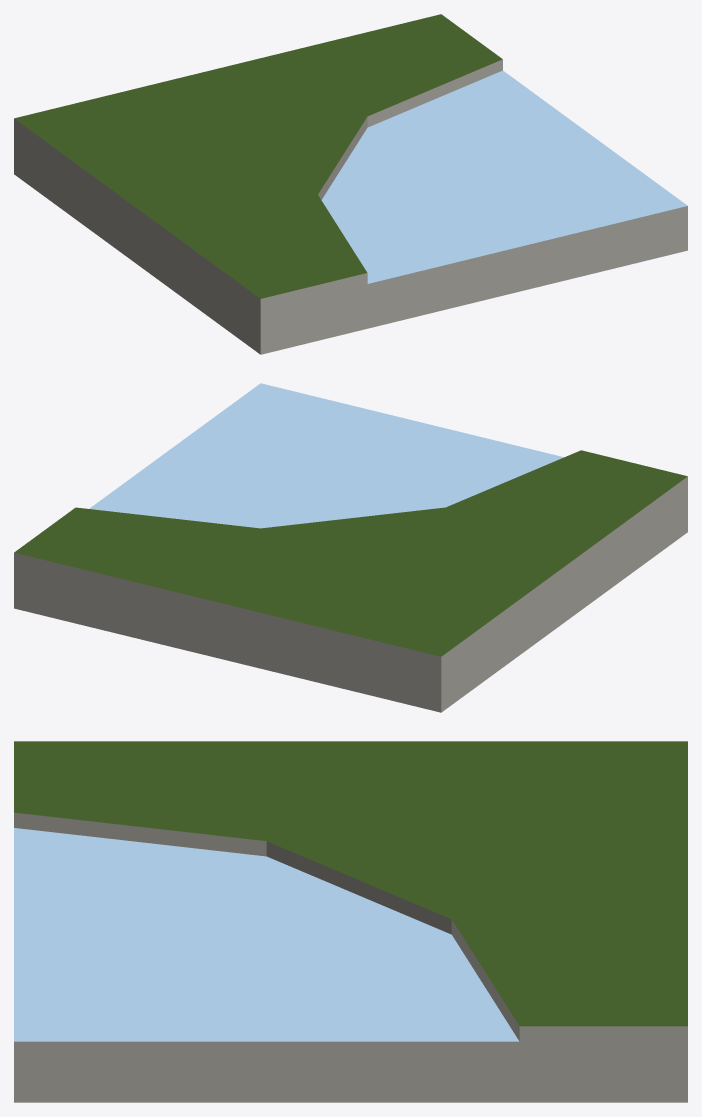
Rendered from Terrain_Tile_Grass_Rock_Water_Bank_Corner_01.fbx.
3 renders of one model, top to bottom at view 1: azimuth 30°, elevation 25°; view 2: azimuth 150°, elevation 25°; view 3: azimuth 270°, elevation 25°, orthographic. The views are drawn at different scales.
Visible parts, largest first — view 1: Terrain_Tile_Grass_Rock_Water_Bank_Corner_01; view 2: Terrain_Tile_Grass_Rock_Water_Bank_Corner_01; view 3: Terrain_Tile_Grass_Rock_Water_Bank_Corner_01.
Boxes of the visible parts, left/top/right/bottom form: Terrain_Tile_Grass_Rock_Water_Bank_Corner_01: left=14, top=14, right=687, bottom=354; Terrain_Tile_Grass_Rock_Water_Bank_Corner_01: left=14, top=383, right=687, bottom=712; Terrain_Tile_Grass_Rock_Water_Bank_Corner_01: left=14, top=741, right=687, bottom=1102.
Size of the model in its own units: 126 by 15.75 by 126.
